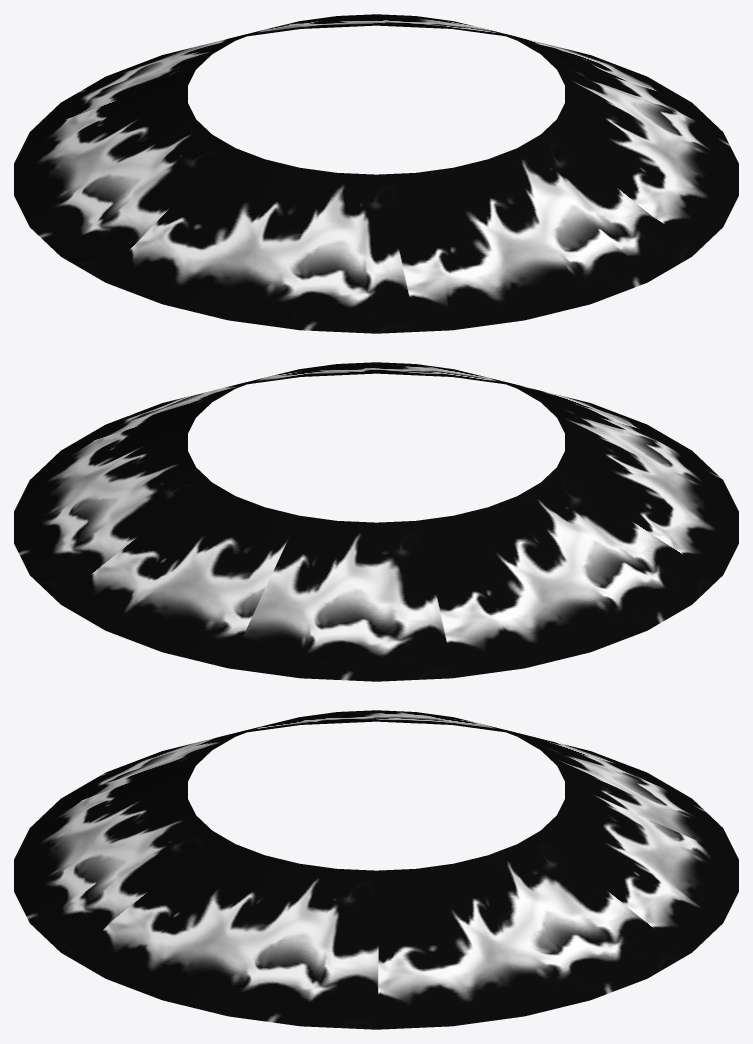
The picture shows the model from 3 angles, top to bottom: view 1: azimuth 30°, elevation 25°; view 2: azimuth 150°, elevation 25°; view 3: azimuth 270°, elevation 25°; orthographic projection.
Visible parts, largest first — view 1: Cylinder001; view 2: Cylinder001; view 3: Cylinder001.
Boxes of the visible parts, x1,y1,x2,y2 form: Cylinder001: [14, 14, 738, 333]; Cylinder001: [14, 362, 738, 681]; Cylinder001: [14, 710, 738, 1029].
Size of the model in its own units: 72.53 by 72.13 by 9.36.
